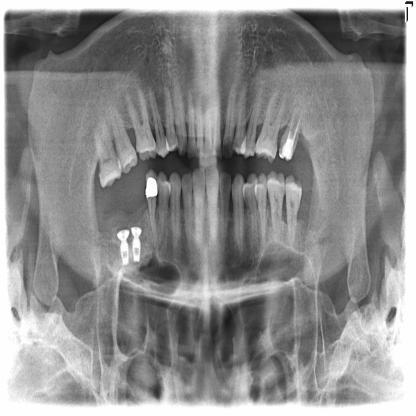Bicon: (131, 240, 142, 266), (120, 243, 130, 267)
